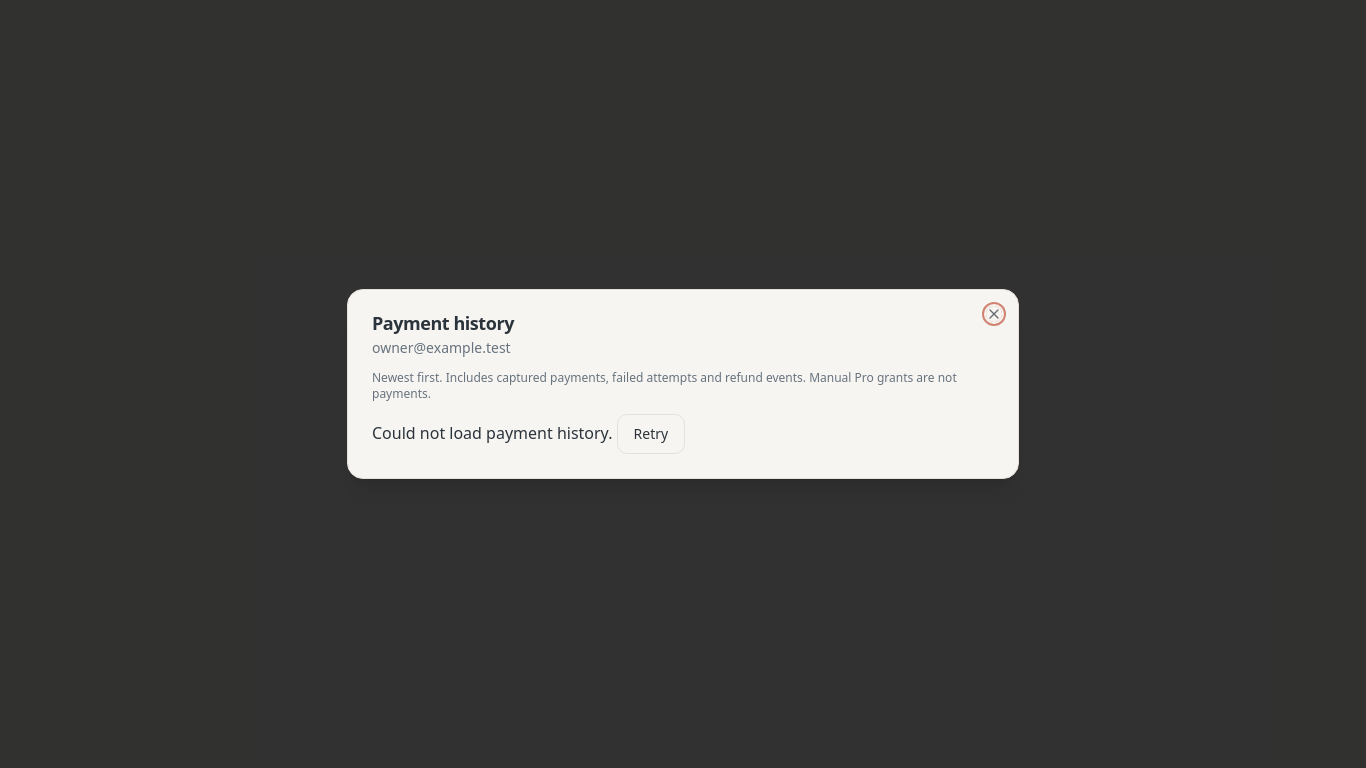
Test: allows retry after a failed history request
This screenshot has width=1366, height=768.
Expected: the message "Could not load payment history. Retry" is shown, 372,414 -> 685,454
Click the button "Retry": (651, 434) 617,414 -> 685,454
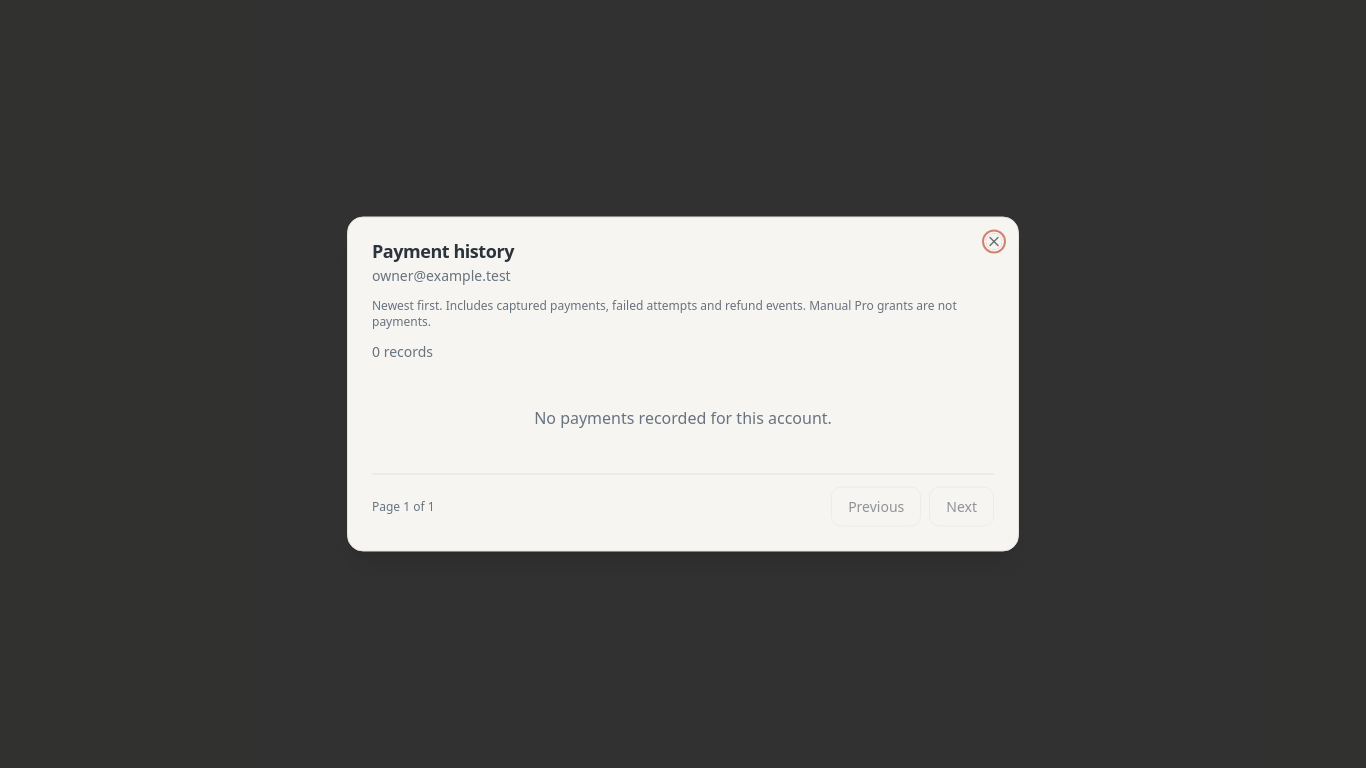
Expected: the text "No payments recorded for this account." is shown, 534,406 -> 832,428
